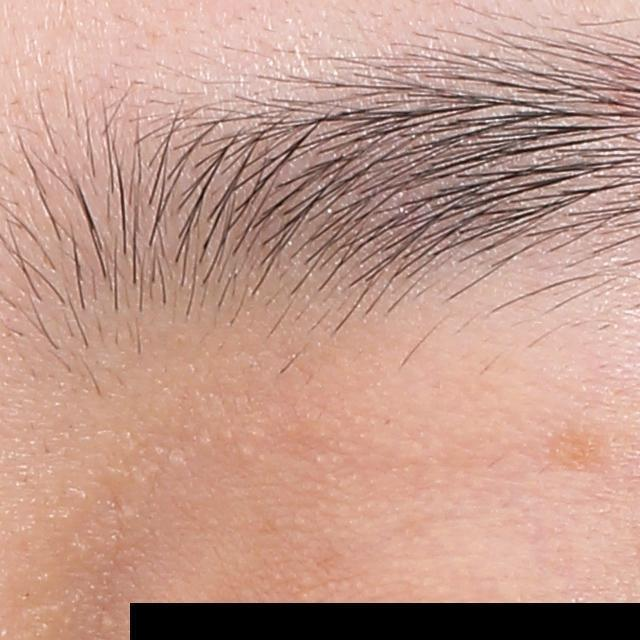melasma: (547, 429, 613, 471)
